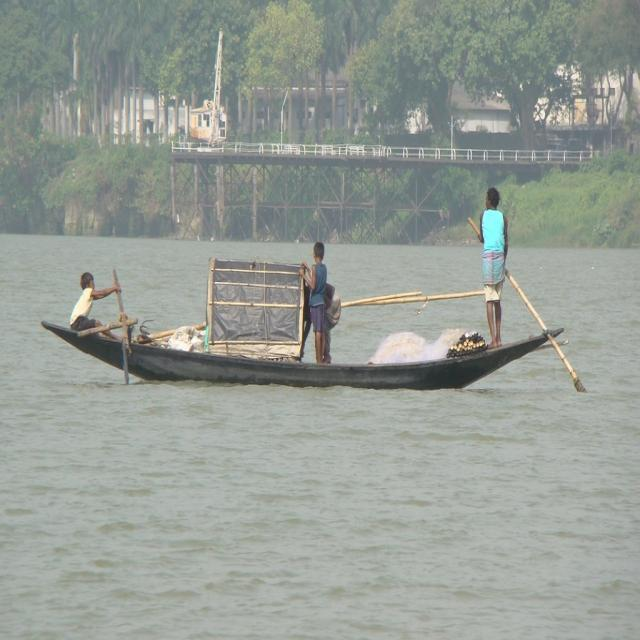boat: (31, 294, 565, 392)
